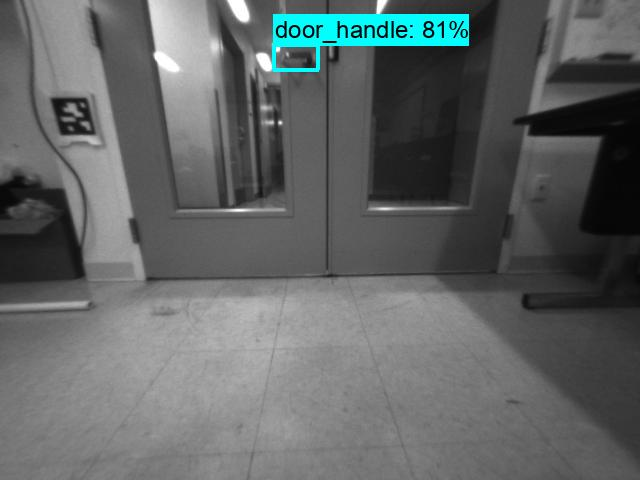door_handle: (266, 48, 318, 68)
